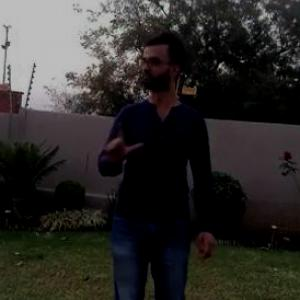land_hand: (100, 117, 146, 170)
